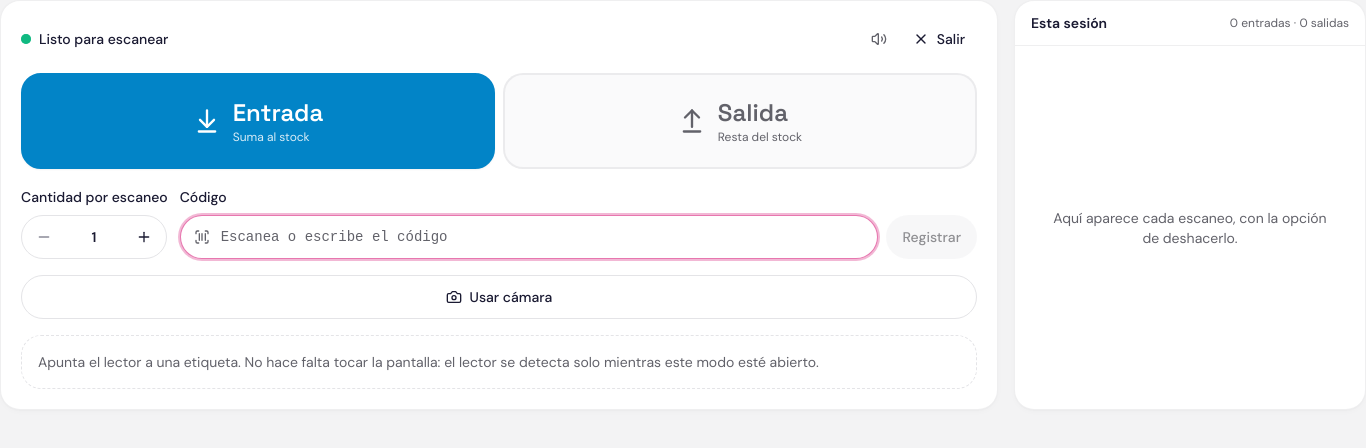
InventoryScanPanel › stock insuficiente: aviso claro con el artículo y pitido de error
Click the radio button labelled "Salida Resta del stock" at x=740, y=121, box [503,73,977,169]
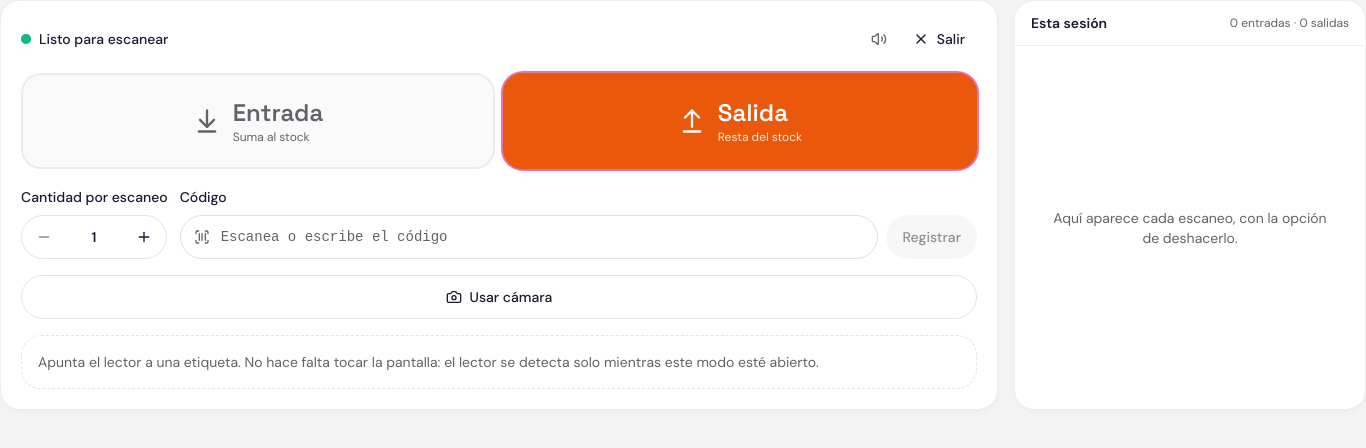
Type "EMD-000002" into the field labelled "Código" at x=529, y=237, box [180,215,878,259]
Then press Enter
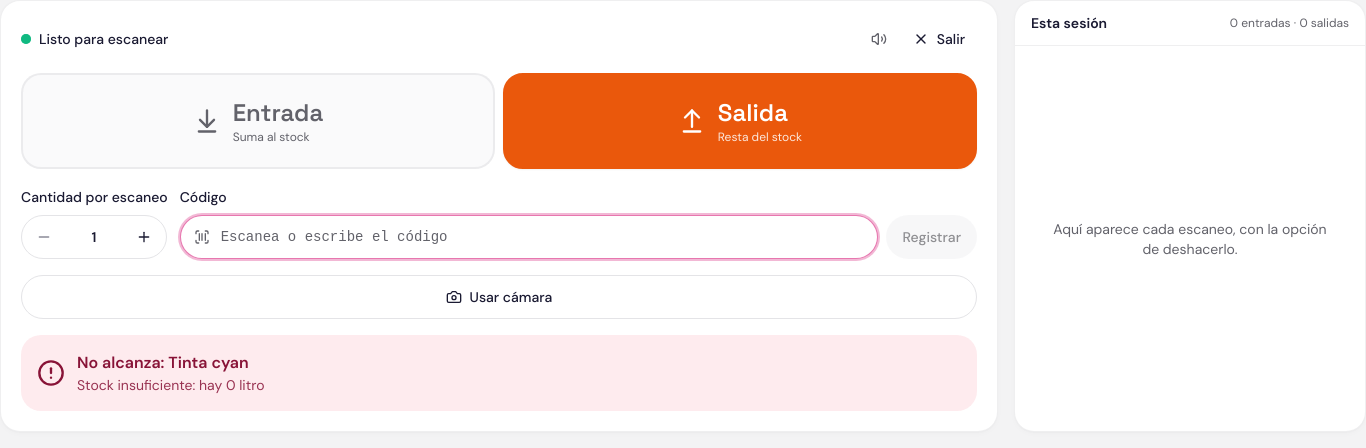
expect the message shows "No alcanza: Tinta cyan": met, box [77,352,249,373]
expect the message shows "Stock insuficiente: hay 0 litro": met, box [77,376,264,394]
